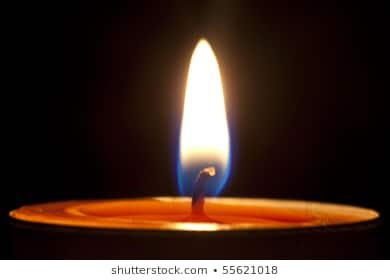fire: (176, 33, 232, 192)
